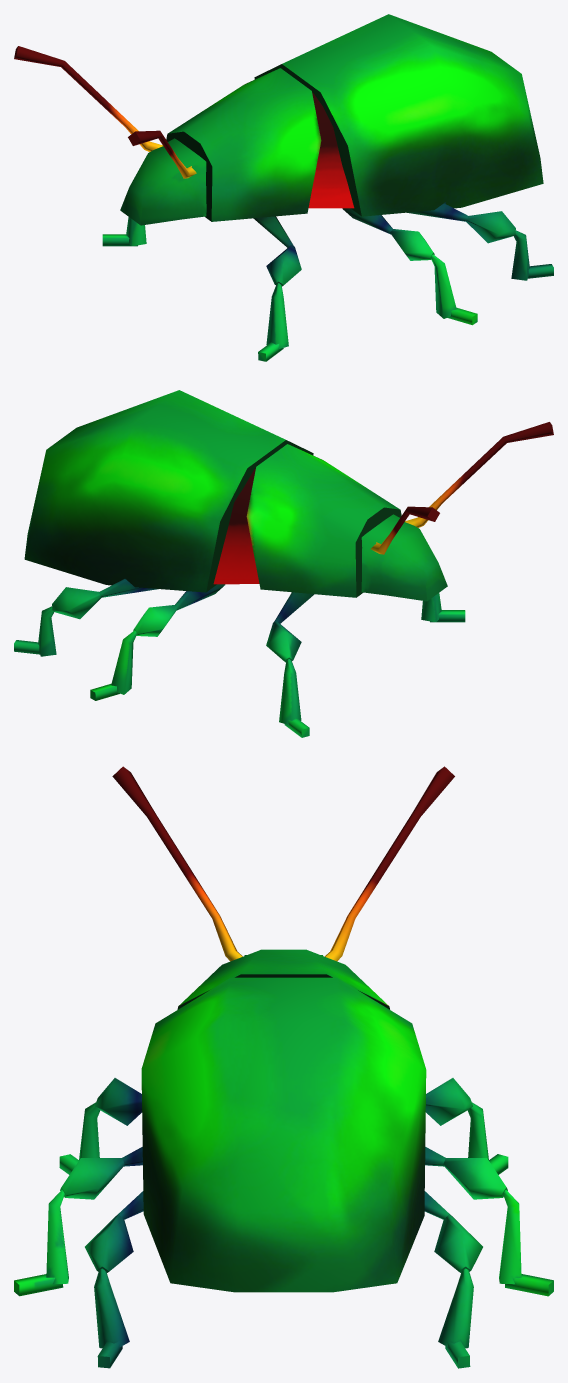
3 views of the same model, one above another, from view 1: azimuth 30°, elevation 25°; view 2: azimuth 150°, elevation 25°; view 3: azimuth 270°, elevation 25° (orthographic). The views are drawn at different scales.
Parts seen in each view (by area): view 1: Bug_2; view 2: Bug_2; view 3: Bug_2.
Boxes of the visible parts, <box> form: Bug_2: <box>14,14,553,361</box>; Bug_2: <box>14,390,553,737</box>; Bug_2: <box>14,766,553,1368</box>.
Size of the model in its own units: 57.63 by 29.31 by 43.53.
